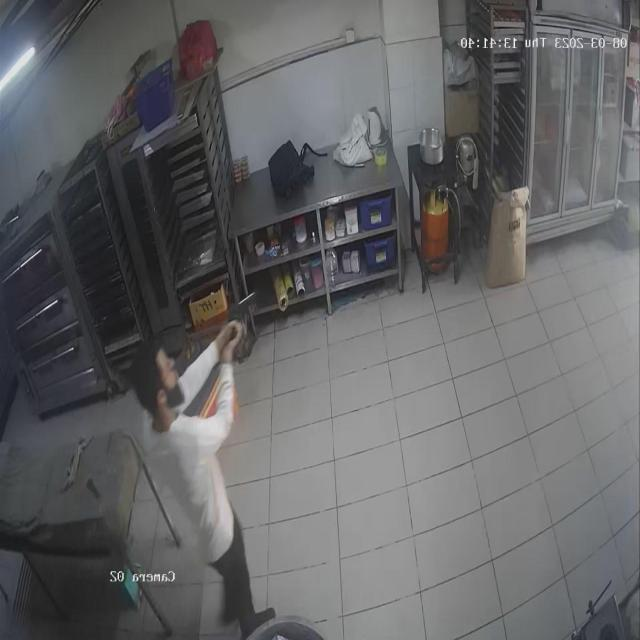Gun: (223, 266, 269, 342)
